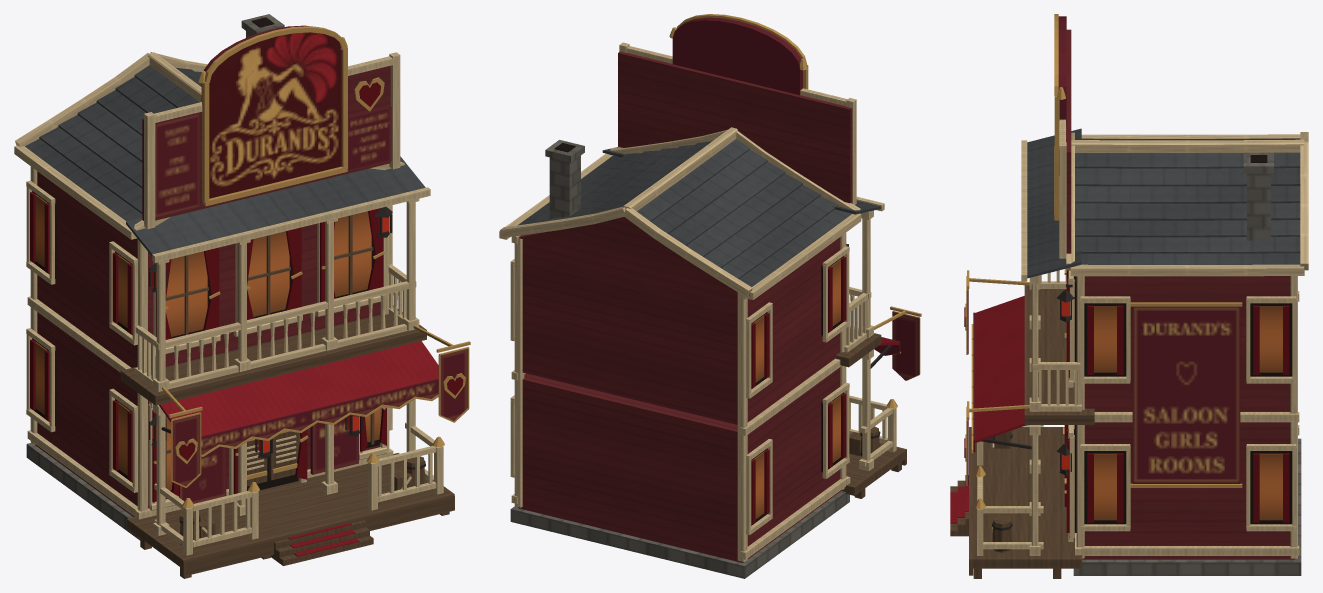
Rendered from durands.glb.
The picture shows the model from 3 angles, left to right: view 1: azimuth 30°, elevation 25°; view 2: azimuth 150°, elevation 25°; view 3: azimuth 270°, elevation 25°; orthographic projection. The views are drawn at different scales.
Parts seen in each view (by area): view 1: durands; view 2: durands; view 3: durands.
Part boxes in pixels (x1,y1,x2,y2): durands: (14, 14, 470, 578); durands: (499, 14, 921, 578); durands: (950, 14, 1308, 578).
Size of the model in its own units: 0.824 by 1.27 by 0.8501.
1 material, 1 textured.
